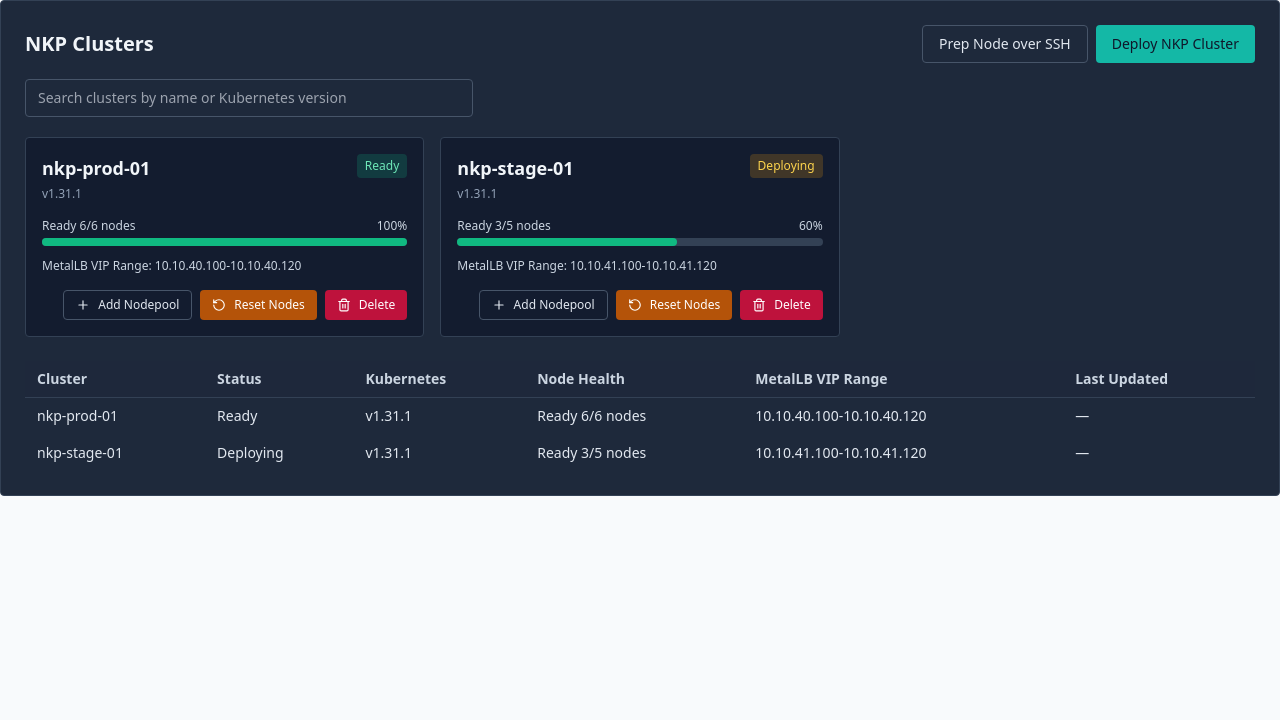
it: ClustersPage › opens typed confirmation modal from cluster delete action
Click the button with test id "btn-cluster-delete-nkp-prod-01". click: (366, 305)
box: [325,290,407,320]
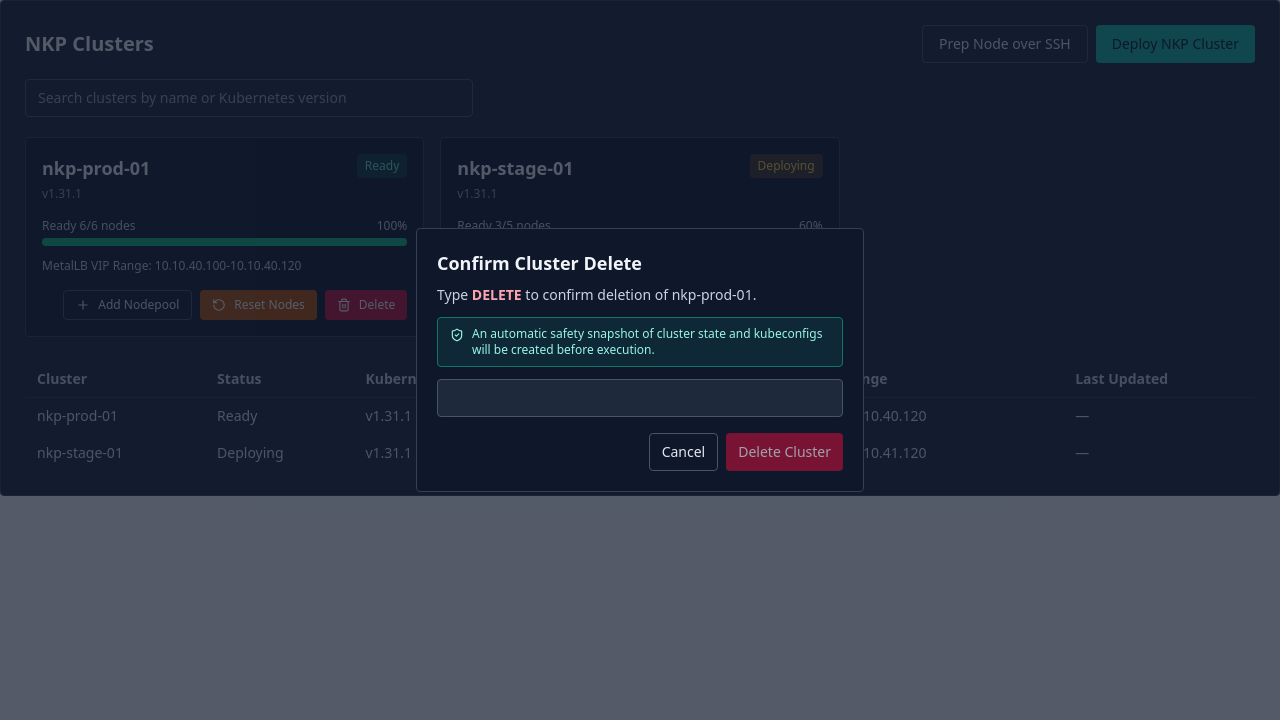
expect the element with test id "modal-confirm-cluster-delete" is shown: met, box [416,228,864,492]
expect the element with test id "banner-safety-snapshot-notice" is shown: met, box [437,317,843,367]
expect the button with test id "btn-confirm-cluster-delete" is disabled: met, box [726,433,843,471]
